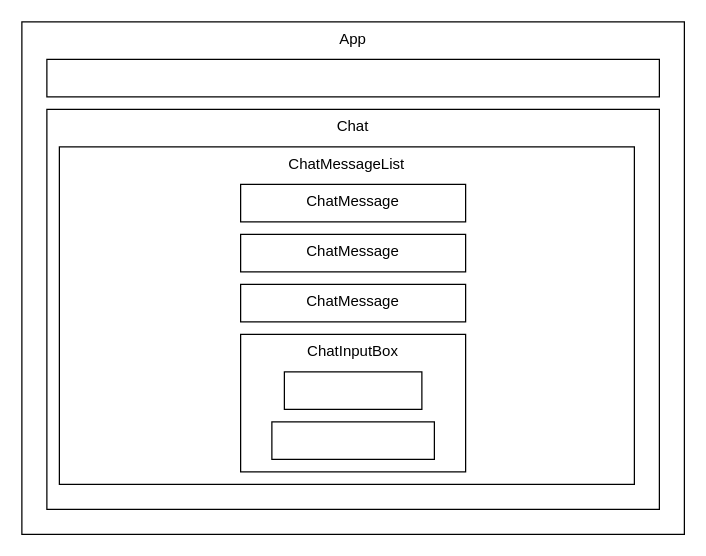
The diagram is 706 pixels wide and 556 high, and some of its shapes have lost their labels. The shapes that lost their labels are listed below. From the top down, each one's centre as x and y in pixels, then its label:
point 352,77: Header
point 352,390: ScribbleCanvas
point 352,440: "Send Scribble" Button
